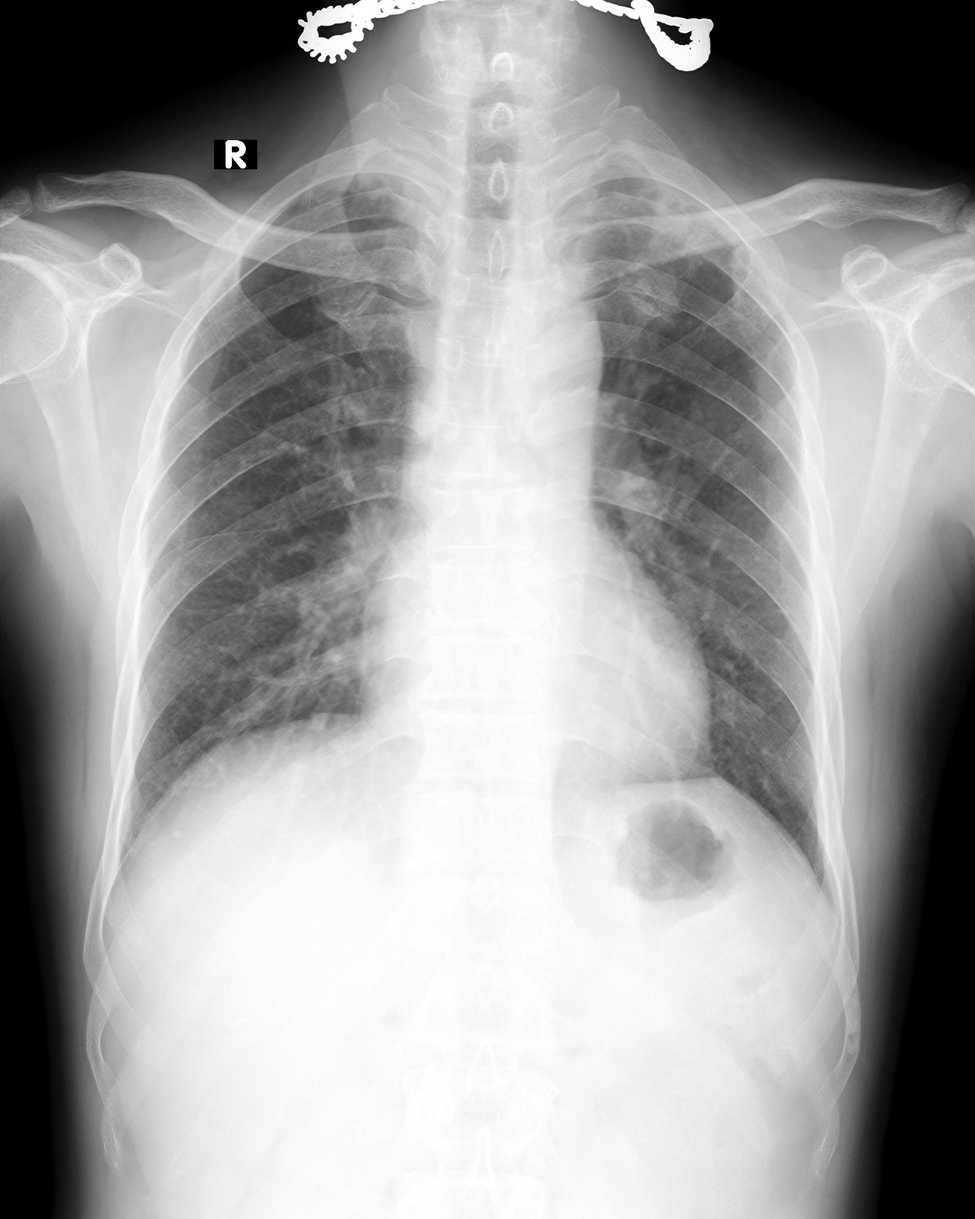Pleural thickening: (636, 176, 752, 270), (290, 171, 446, 202)
